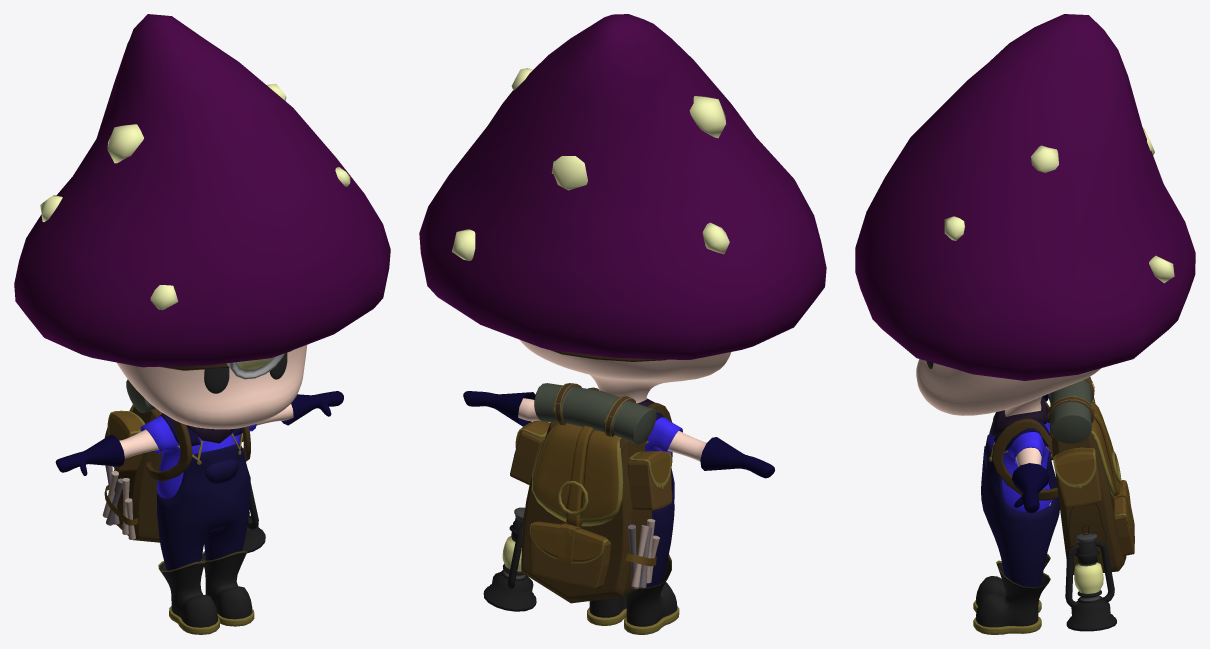
3 renders of one model, left to right at view 1: azimuth 30°, elevation 25°; view 2: azimuth 150°, elevation 25°; view 3: azimuth 270°, elevation 25°, orthographic. The views are drawn at different scales.
Parts seen in each view (by area): view 1: CuerpoBase; view 2: CuerpoBase; view 3: CuerpoBase.
Part boxes in pixels (x1,y1,x2,y2): CuerpoBase: (14,14,390,634); CuerpoBase: (419,14,826,634); CuerpoBase: (855,14,1195,634).
Size of the model in its own units: 332 by 554 by 288.
